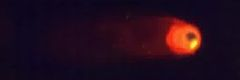keyhole: (186, 30, 198, 43)
